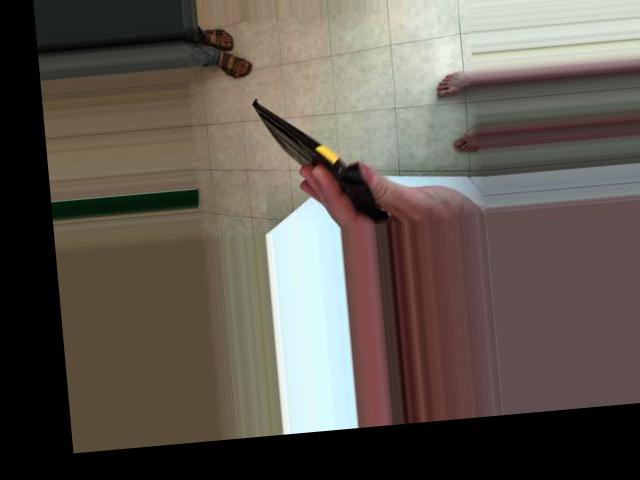chocolate: (263, 31, 406, 178)
